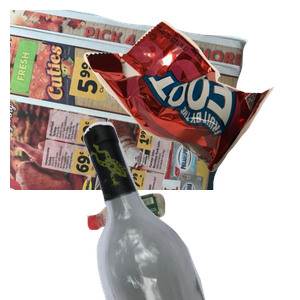glass: (81, 120, 300, 300)
paper: (10, 10, 250, 190)
plastic: (84, 191, 242, 300)
trash: (81, 18, 300, 182)
